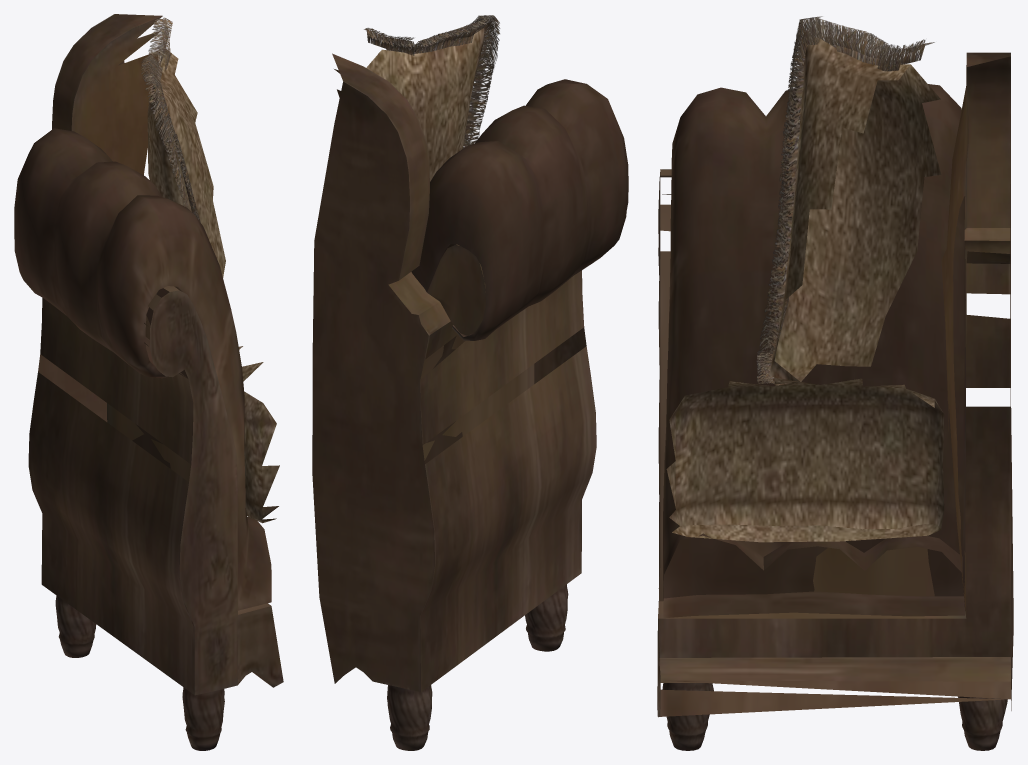
The model's file is sofa_arm_a.glb.
3 renders of one model, left to right at view 1: azimuth 30°, elevation 25°; view 2: azimuth 150°, elevation 25°; view 3: azimuth 270°, elevation 25°, orthographic. The views are drawn at different scales.
Visible parts, largest first — view 1: sofa_03.002; view 2: sofa_03.002; view 3: sofa_03.002.
Part boxes in pixels (x1=…): sofa_03.002: x1=14, y1=14, x2=283, y2=750; sofa_03.002: x1=312, y1=15, x2=628, y2=750; sofa_03.002: x1=657, y1=16, x2=1013, y2=750.
Size of the model in its own units: 10.47 by 39.42 by 17.14.
2 materials, 2 textured.
